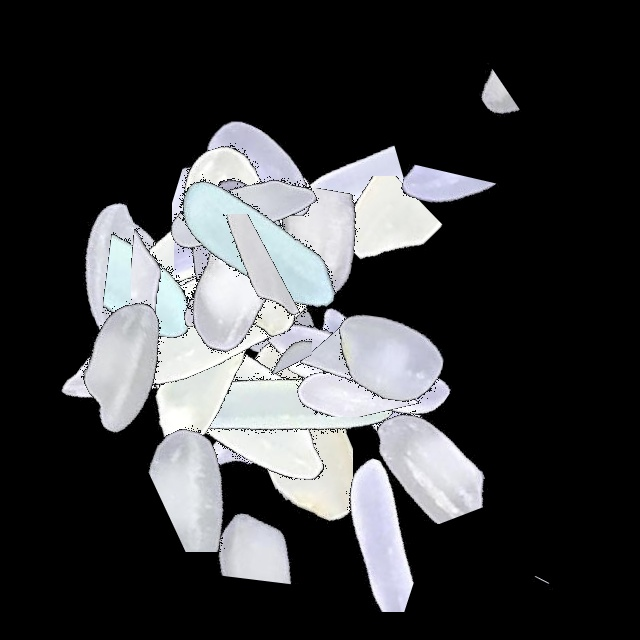Broken: (179, 323, 353, 573), (295, 350, 545, 524), (50, 211, 300, 379), (183, 188, 433, 355), (221, 453, 471, 612), (174, 157, 332, 407), (172, 89, 325, 339), (107, 405, 357, 552), (25, 291, 275, 425), (226, 285, 476, 417), (240, 327, 490, 459), (195, 390, 325, 640), (83, 214, 333, 342), (44, 221, 294, 347), (215, 122, 465, 247), (76, 222, 326, 339), (246, 176, 496, 289), (390, 102, 499, 352), (0, 240, 250, 348), (131, 146, 236, 396), (216, 200, 312, 450), (294, 292, 544, 386), (327, 539, 577, 626), (342, 63, 592, 145), (172, 150, 253, 400), (157, 191, 407, 269), (345, 282, 422, 532)
Full: (119, 123, 369, 373), (11, 251, 261, 501), (158, 277, 408, 527), (84, 165, 334, 415), (252, 260, 502, 510), (150, 178, 400, 428), (0, 146, 250, 396), (205, 262, 455, 512), (111, 280, 361, 530), (165, 287, 415, 537), (84, 238, 334, 488), (230, 244, 480, 494), (94, 114, 344, 364), (97, 190, 347, 440), (132, 45, 382, 295), (114, 120, 364, 370), (101, 141, 351, 391), (103, 111, 353, 361), (118, 158, 368, 408), (114, 85, 364, 335), (132, 123, 382, 373), (0, 240, 250, 490), (265, 235, 515, 485)
